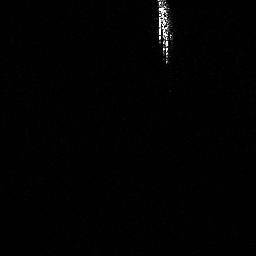ship: (154, 1, 176, 66)
